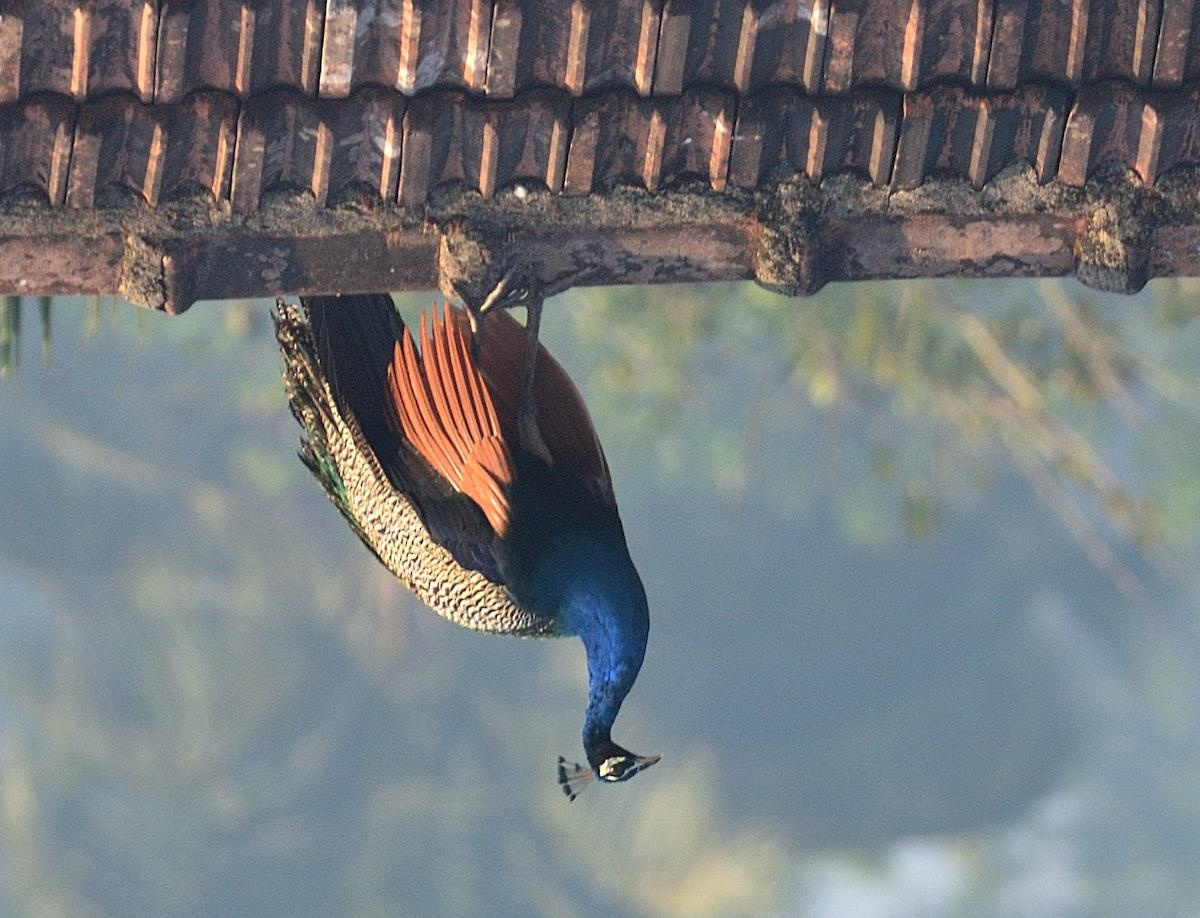peacock: (217, 202, 679, 804)
